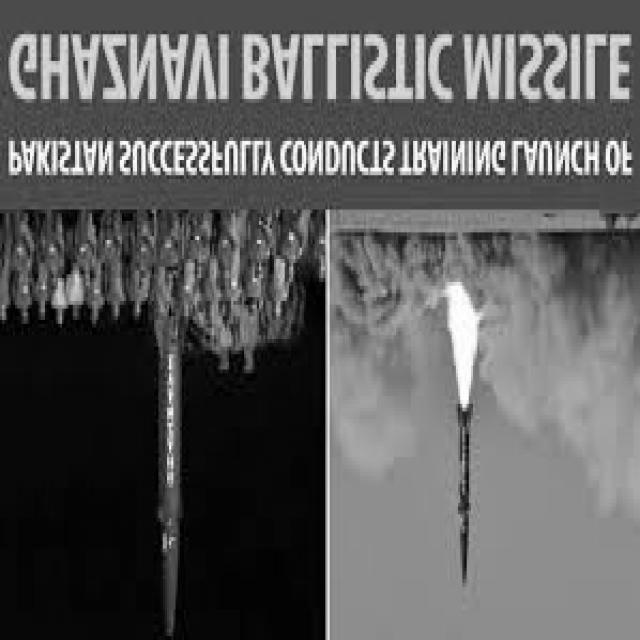Missile: (154, 313, 189, 640), (455, 401, 478, 591)
